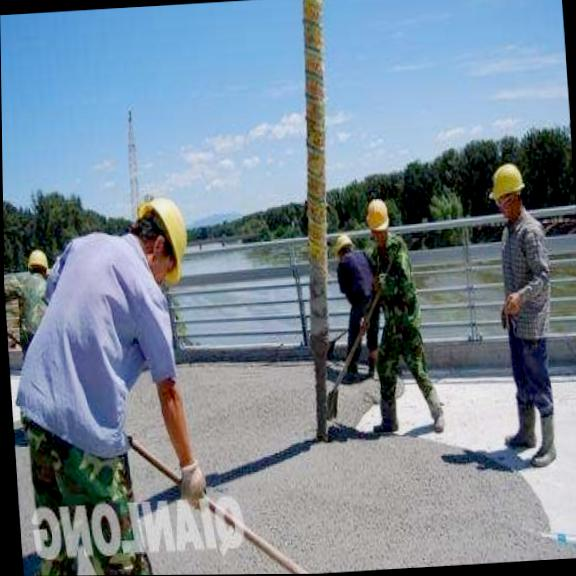no_safety_vest: (16, 266, 185, 444), (498, 214, 549, 339), (371, 235, 418, 336)
